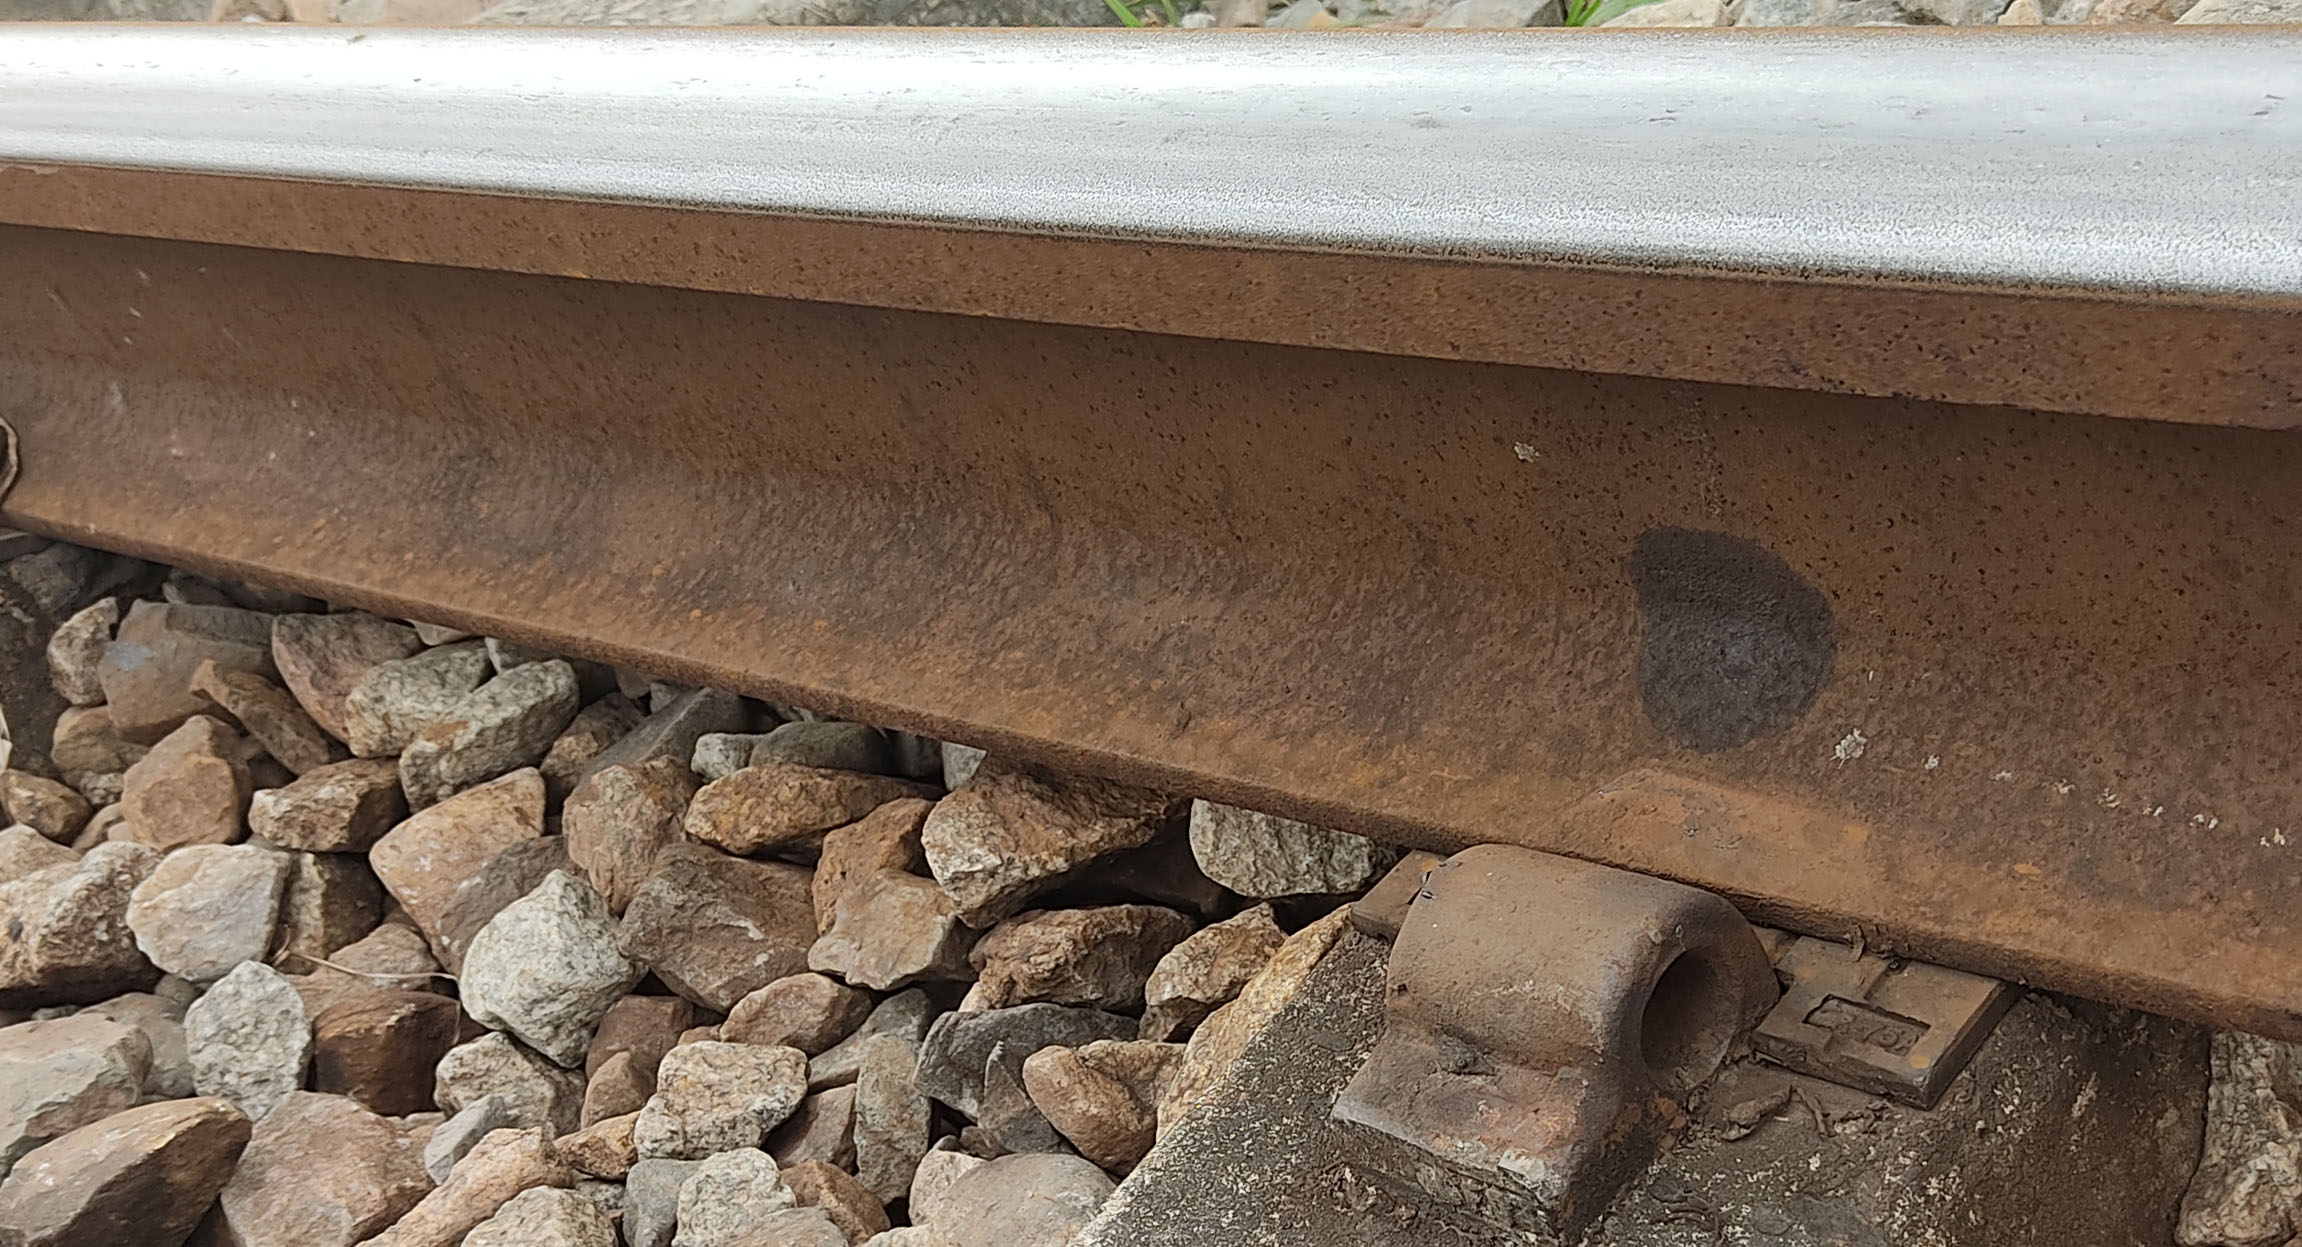error1: (1261, 713, 1823, 1216)
